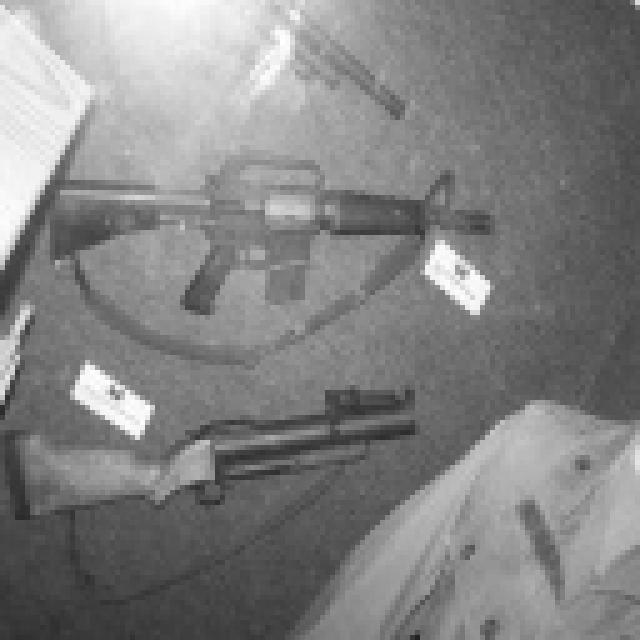Rifle: (0, 337, 450, 640), (36, 115, 515, 383), (230, 0, 430, 135)
